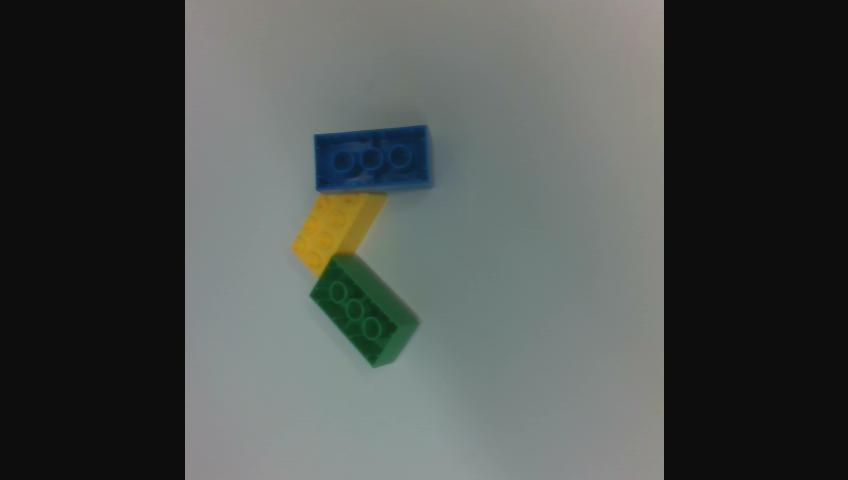4x2_blue: (315, 126, 430, 189)
4x2_green: (310, 256, 418, 367)
4x2_yellow: (292, 194, 384, 276)
